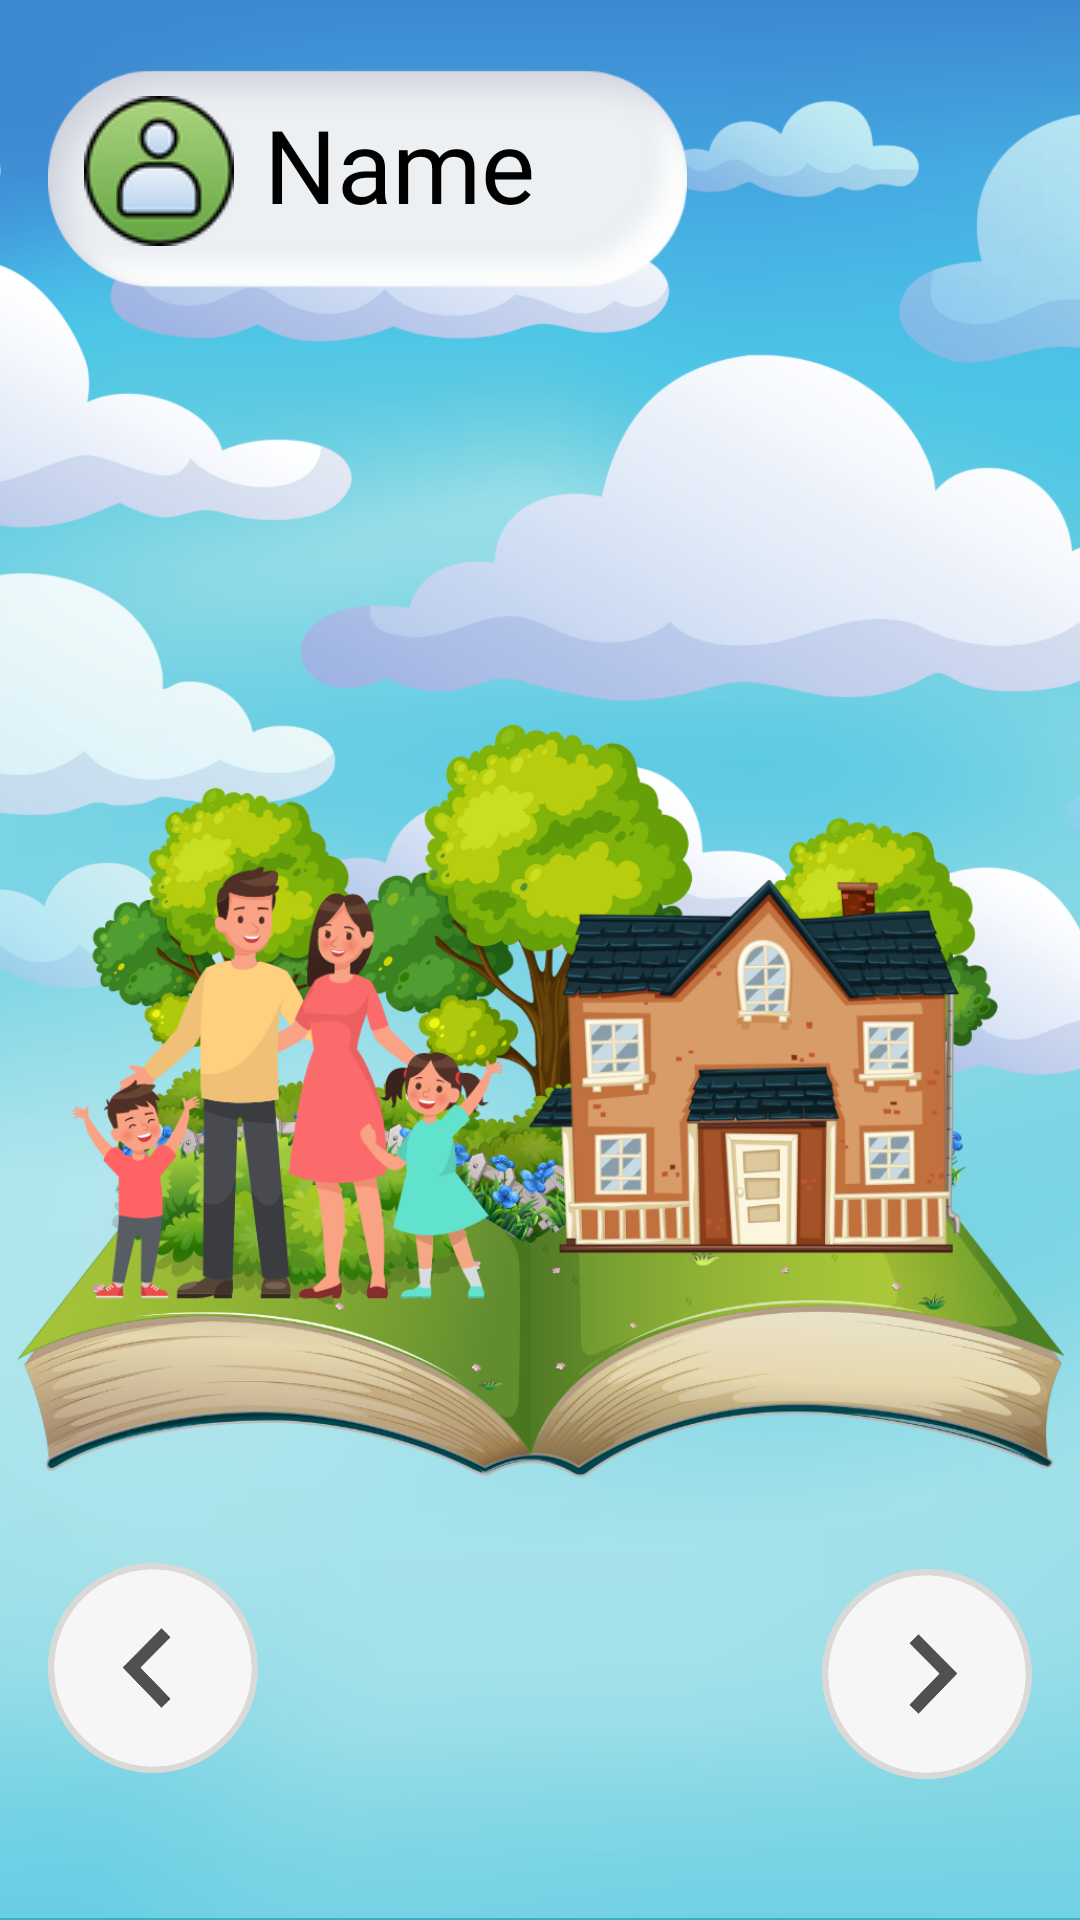

Screen size 1080×1920. Icon name, then its center in pixels as (x=x, y=y):
left: (x=153, y=1668)
right: (x=927, y=1674)
